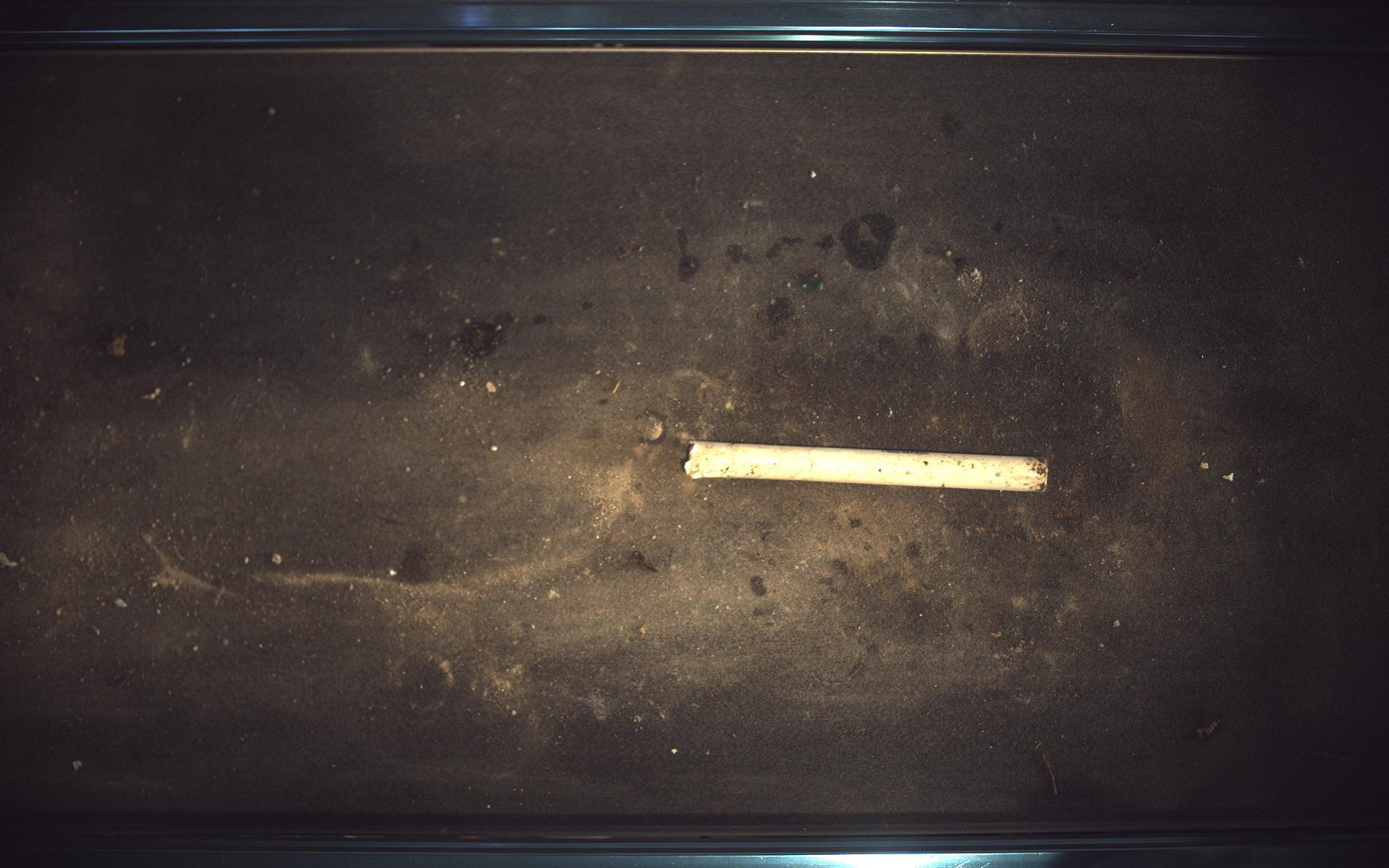pipes: (685, 441, 1050, 492)
